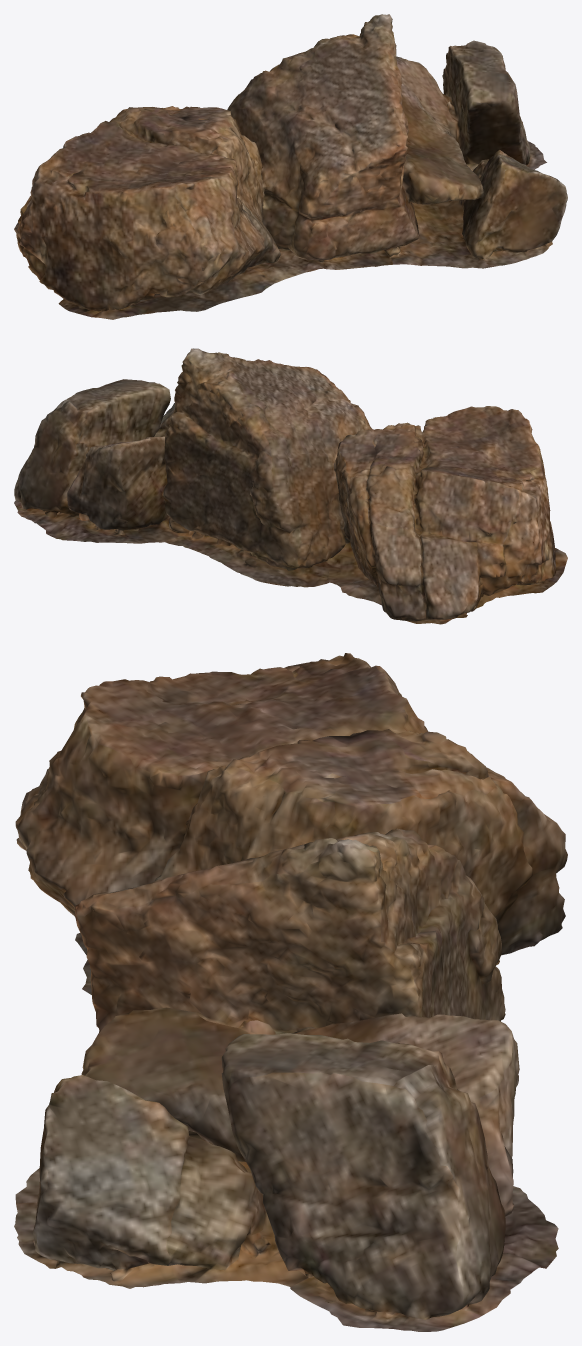
File: rock_a.glb
3 renders of one model, top to bottom at view 1: azimuth 30°, elevation 25°; view 2: azimuth 150°, elevation 25°; view 3: azimuth 270°, elevation 25°, orthographic. The views are drawn at different scales.
Visible parts, largest first — view 1: boulder_02; view 2: boulder_02; view 3: boulder_02.
Part boxes in pixels (<box>): boulder_02: <box>14,14,567,319</box>; boulder_02: <box>14,348,567,624</box>; boulder_02: <box>14,653,567,1331</box>.
Size of the model in its own units: 2.53 by 0.8826 by 1.23.
Materials: 1 (1 with a texture image).
